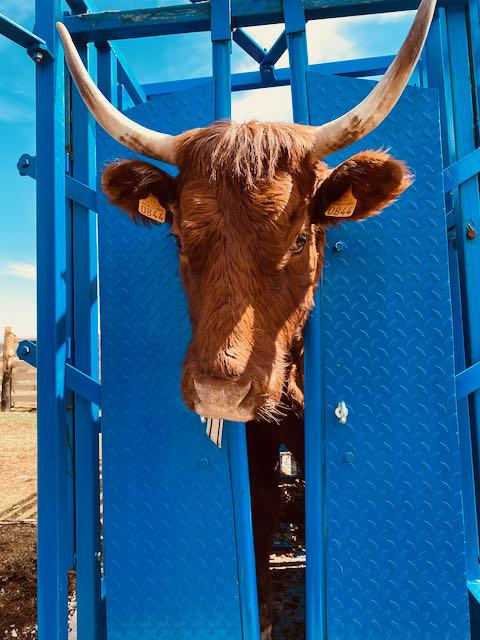muzzles: (175, 368, 273, 428)
